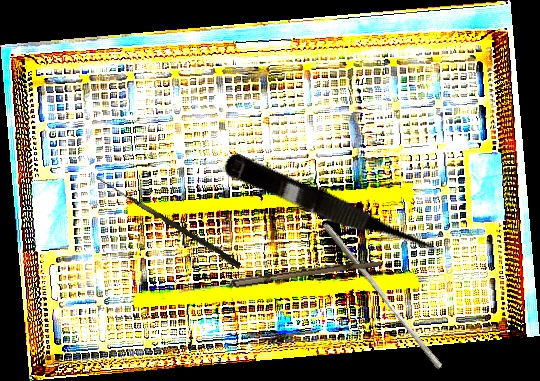Hook Surgical: (92, 176, 243, 269)
Micro Scissor: (218, 150, 448, 269)
Pusher: (315, 221, 449, 371)
Surgical Spoon: (178, 256, 382, 298)
